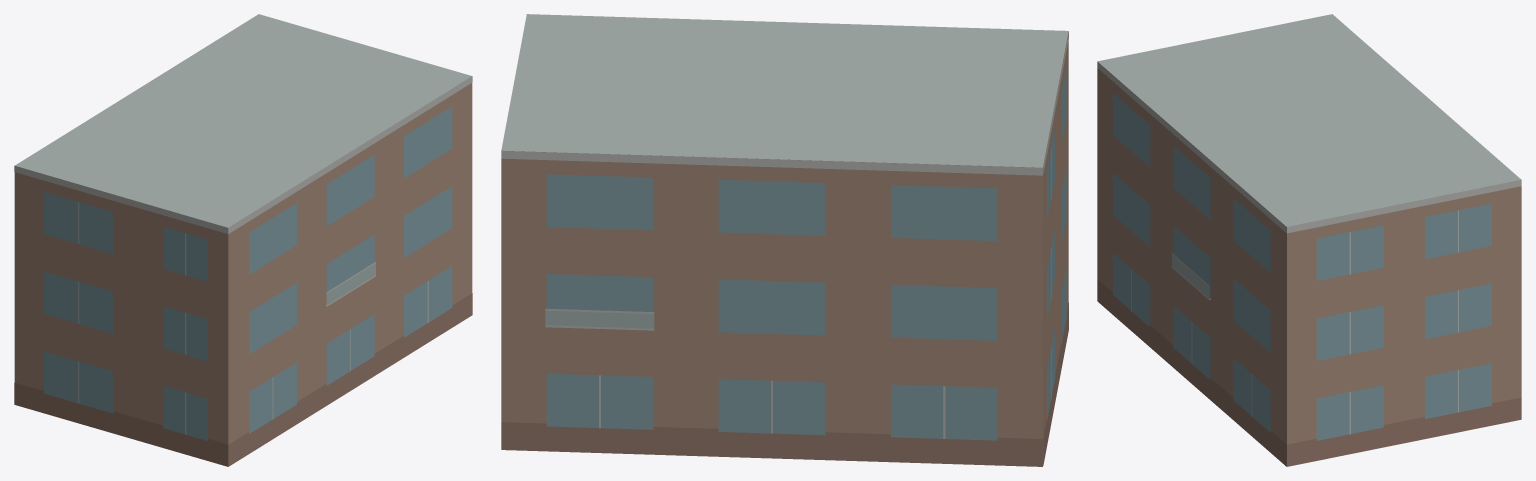
The model's file is survey-upis-32698001.glb.
3 renders of one model, left to right at view 1: azimuth 30°, elevation 25°; view 2: azimuth 150°, elevation 25°; view 3: azimuth 270°, elevation 25°, orthographic. The views are drawn at different scales.
Parts seen in each view (by area): view 1: survey-upis-32698001.tmp; view 2: survey-upis-32698001.tmp; view 3: survey-upis-32698001.tmp.
Part boxes in pixels (bbox=[...]): survey-upis-32698001.tmp: bbox=[14, 14, 472, 466]; survey-upis-32698001.tmp: bbox=[501, 14, 1068, 466]; survey-upis-32698001.tmp: bbox=[1097, 14, 1521, 466].
Bounding box in the file's own units: 17.44 × 9.15 × 14.68.
